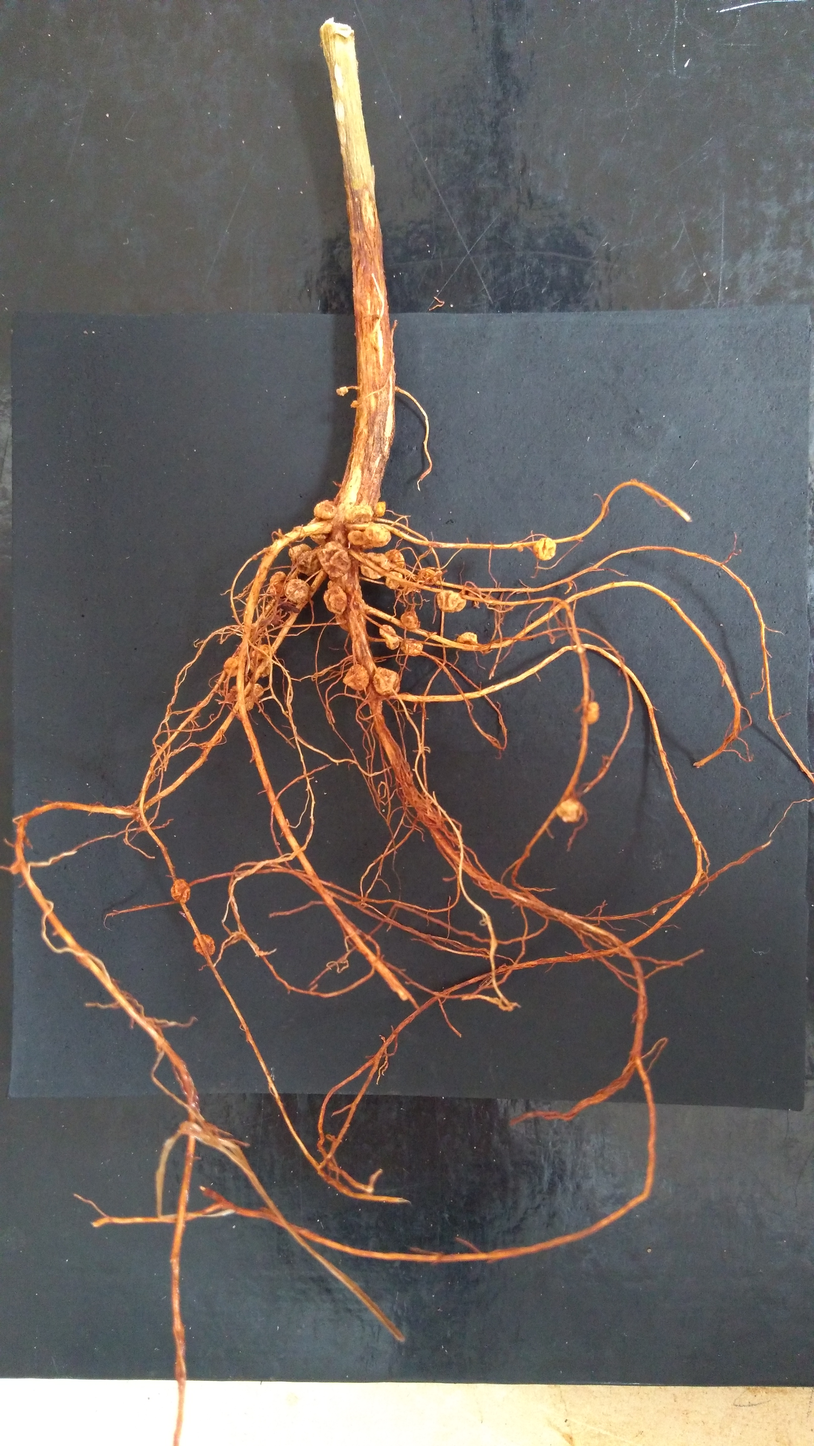nodule: (316, 542, 352, 578), (323, 581, 347, 615), (360, 552, 389, 579), (372, 667, 399, 696), (249, 644, 272, 678), (296, 549, 323, 575), (343, 664, 369, 691), (284, 579, 310, 605), (556, 799, 582, 823), (364, 524, 391, 547), (307, 517, 328, 546), (437, 591, 466, 612), (334, 612, 366, 631), (244, 683, 263, 711), (533, 538, 556, 560), (193, 934, 216, 956), (345, 505, 374, 522), (170, 879, 190, 903), (380, 624, 399, 649), (289, 544, 311, 565), (269, 571, 287, 596), (223, 656, 244, 677), (385, 550, 405, 571), (313, 501, 336, 519), (400, 638, 423, 656), (418, 568, 440, 586), (584, 700, 600, 724), (278, 599, 301, 615), (385, 571, 403, 589), (347, 531, 369, 545), (401, 612, 419, 629), (456, 632, 477, 646), (225, 685, 238, 705), (373, 501, 386, 518), (354, 589, 364, 609), (264, 614, 279, 625), (336, 386, 348, 396), (10, 863, 20, 875), (293, 526, 305, 533), (350, 400, 360, 408), (517, 544, 523, 552), (263, 547, 271, 553), (251, 555, 258, 560)
